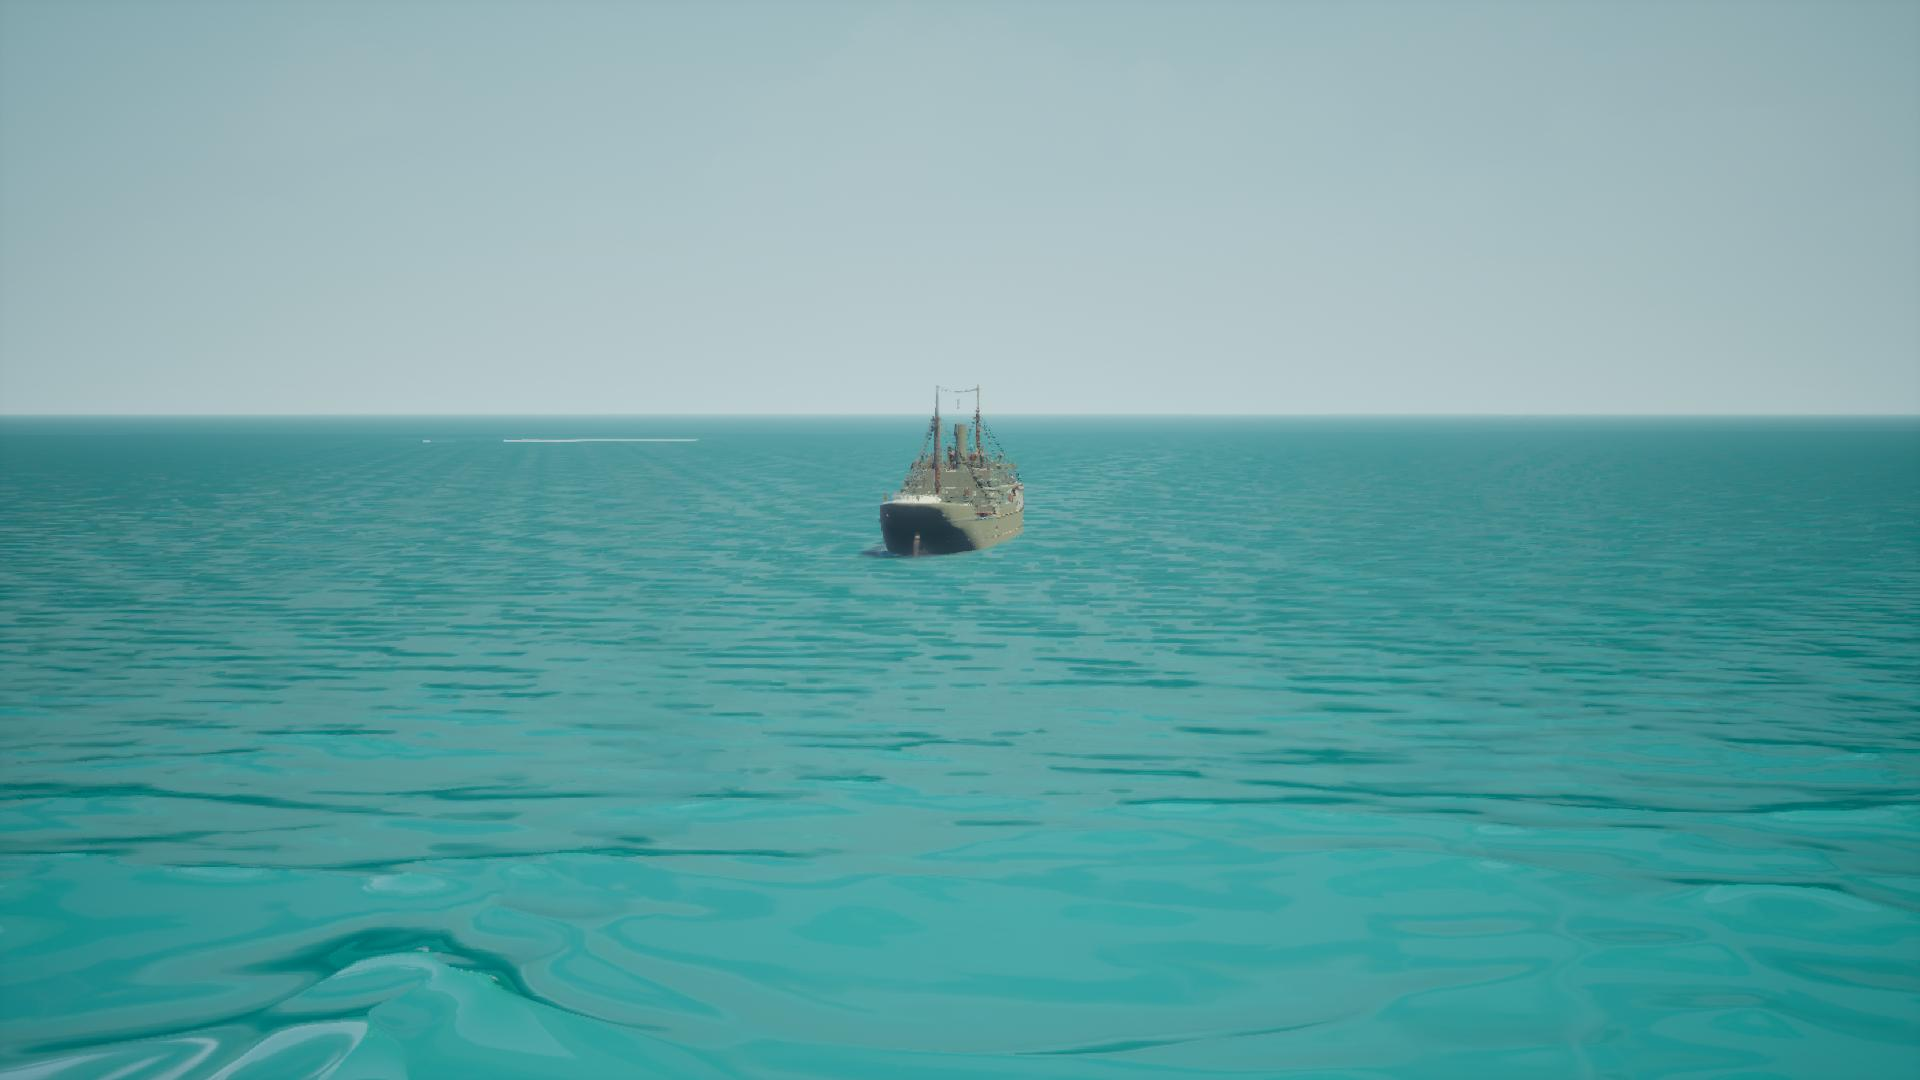Fishing Boat: (870, 386, 1030, 558)
